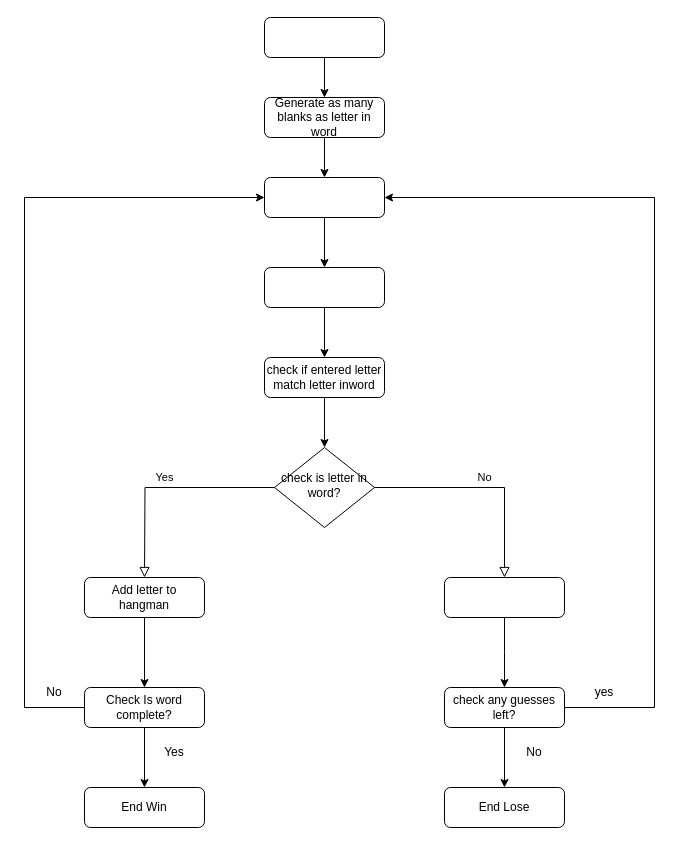
Some shapes in this 680 by 845 pixel diagram are drawn without their labels. The box of each missing label's shape, as (x1, y1, x2, y2) in pixels:
add line to hangman: (444, 576, 564, 618)
Computer picks a word: (264, 16, 384, 58)
Prompt user for letter: (264, 176, 384, 218)
User enters letter: (264, 266, 384, 308)
